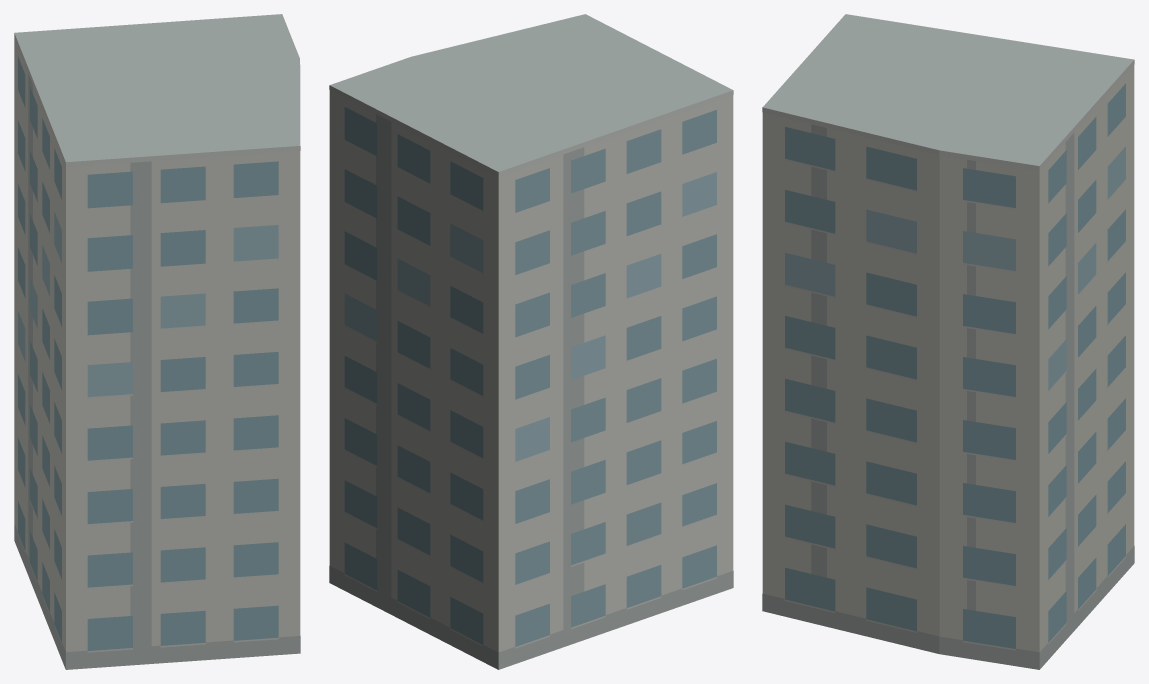
Rendered from survey-upis-32982953.glb.
The picture shows the model from 3 angles, left to right: view 1: azimuth 30°, elevation 25°; view 2: azimuth 150°, elevation 25°; view 3: azimuth 270°, elevation 25°; orthographic projection.
Visible parts, largest first — view 1: survey-upis-32982953.tmp; view 2: survey-upis-32982953.tmp; view 3: survey-upis-32982953.tmp.
Boxes of the visible parts, left/top/right/bottom form: survey-upis-32982953.tmp: left=14, top=14, right=300, bottom=669; survey-upis-32982953.tmp: left=329, top=14, right=733, bottom=669; survey-upis-32982953.tmp: left=762, top=14, right=1134, bottom=669.
Bounding box in the file's own units: 15.81 × 24.4 × 16.33.
